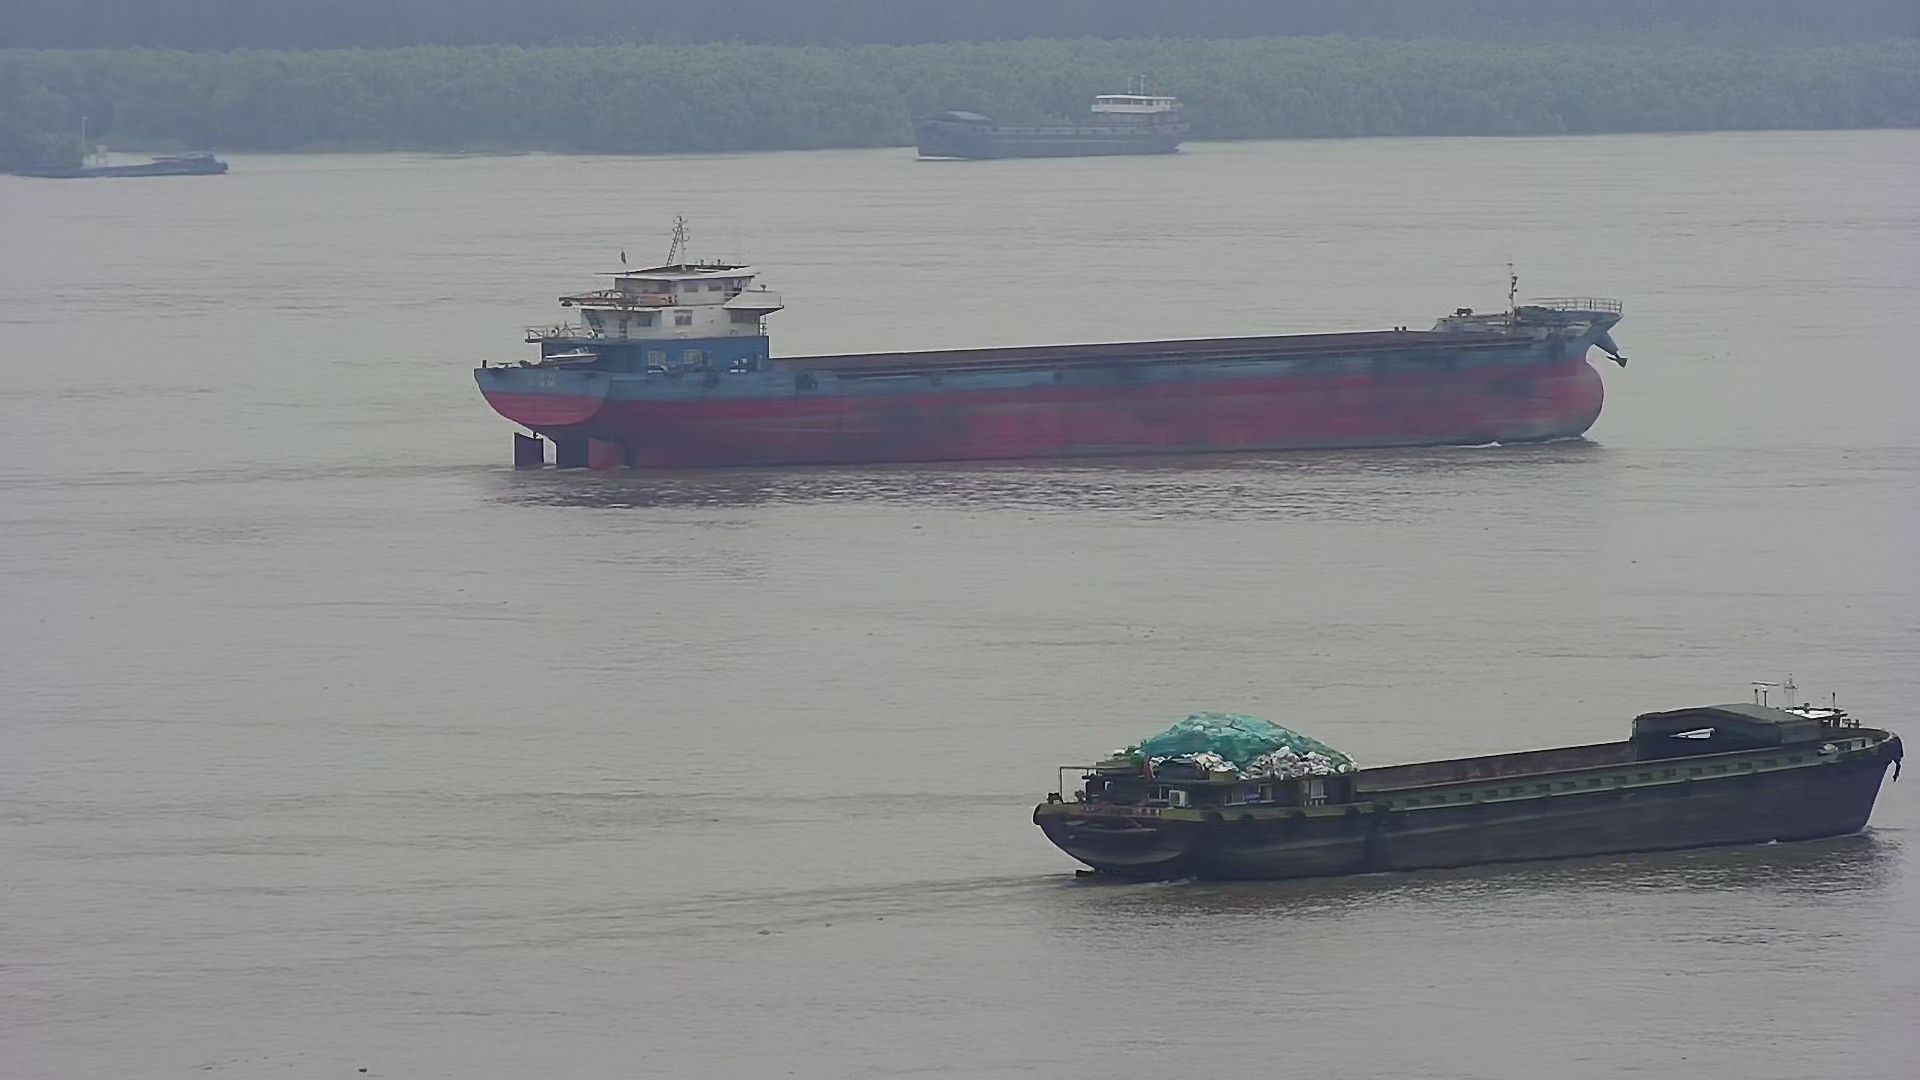boat: (1, 112, 258, 196)
ship: (471, 237, 1665, 505), (1025, 671, 1905, 916), (865, 51, 1226, 179)
